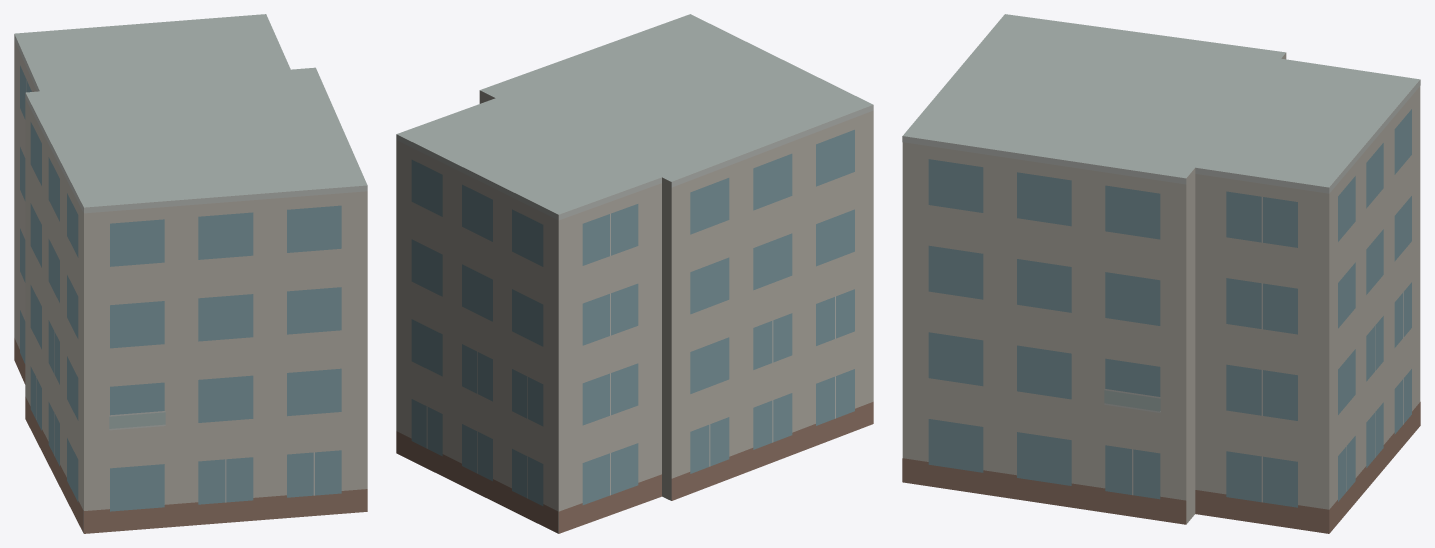
The model's file is survey-upis-32883393.glb.
3 renders of one model, left to right at view 1: azimuth 30°, elevation 25°; view 2: azimuth 150°, elevation 25°; view 3: azimuth 270°, elevation 25°, orthographic. The views are drawn at different scales.
Parts seen in each view (by area): view 1: survey-upis-32883393.tmp; view 2: survey-upis-32883393.tmp; view 3: survey-upis-32883393.tmp.
Part boxes in pixels (x1,y1,x2,y2): survey-upis-32883393.tmp: (14, 14, 367, 533); survey-upis-32883393.tmp: (396, 14, 873, 533); survey-upis-32883393.tmp: (902, 14, 1420, 533).
Bounding box in the file's own units: 14.68 × 13.65 × 18.51.
